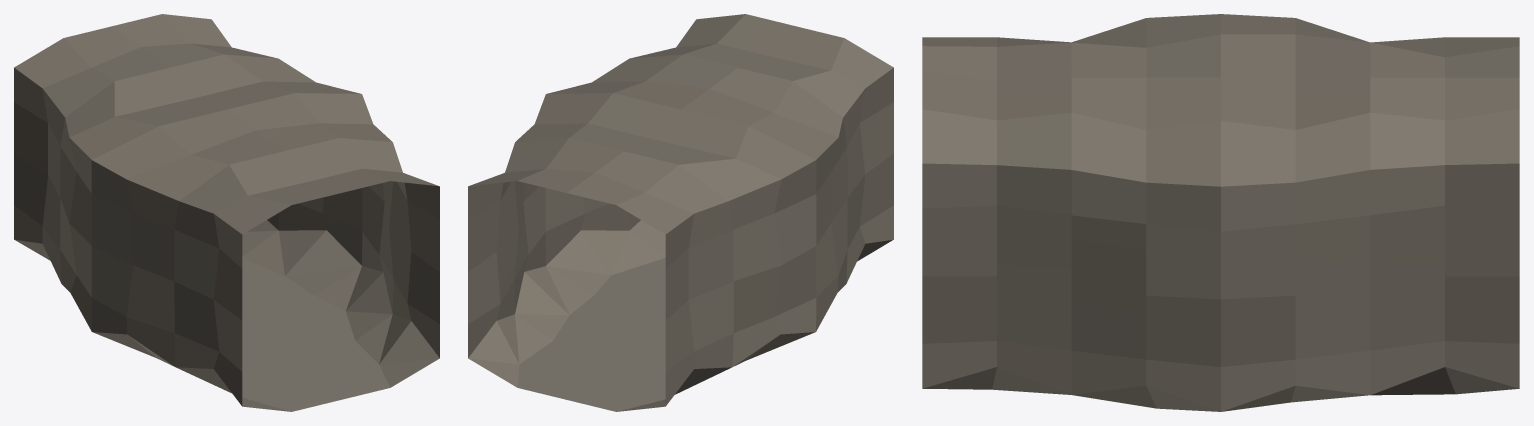
File: SM_Env_Mine_Tunnel_04.glb
The picture shows the model from 3 angles, left to right: view 1: azimuth 30°, elevation 25°; view 2: azimuth 150°, elevation 25°; view 3: azimuth 270°, elevation 25°; orthographic projection. The views are drawn at different scales.
Parts seen in each view (by area): view 1: SM_Env_Mine_Tunnel_04; view 2: SM_Env_Mine_Tunnel_04; view 3: SM_Env_Mine_Tunnel_04.
Part boxes in pixels (x1,y1,x2,y2): SM_Env_Mine_Tunnel_04: [14, 14, 439, 411]; SM_Env_Mine_Tunnel_04: [468, 14, 893, 411]; SM_Env_Mine_Tunnel_04: [922, 14, 1519, 411].
Bounding box in the file's own units: 4.11 × 3 × 6.
Materials: 1 (1 with a texture image).
